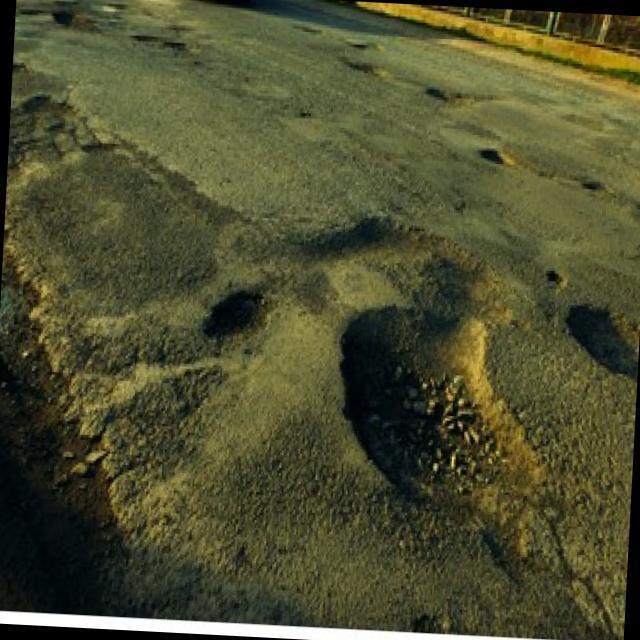Pothole: (339, 307, 545, 550), (565, 306, 640, 379), (203, 292, 264, 337), (479, 149, 515, 166)
